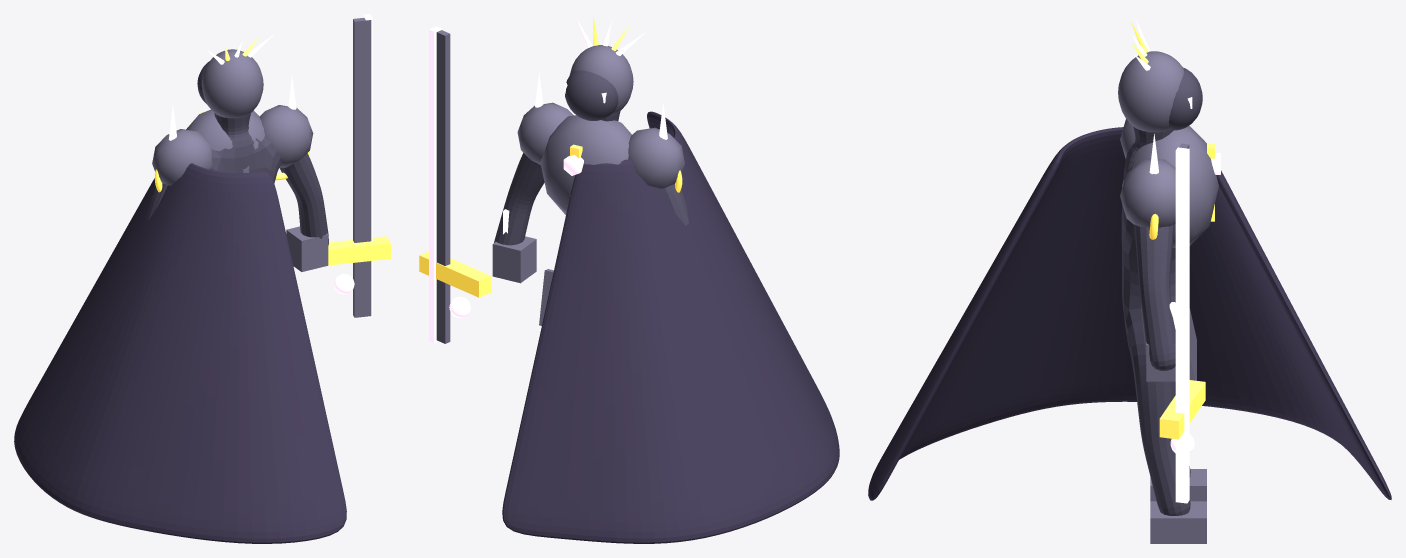
The model's file is kaelis.glb.
3 renders of one model, left to right at view 1: azimuth 30°, elevation 25°; view 2: azimuth 150°, elevation 25°; view 3: azimuth 270°, elevation 25°, orthographic. The views are drawn at different scales.
Visible parts, largest first — view 1: cloak, Cube.015, kaelis_body, Sphere, Icosphere.002, Icosphere.001, Cube.012, Cube.017, Icosphere, Cube.016; view 2: cloak, Cube.015, Icosphere, kaelis_body, Icosphere.001, Cube.016, Sphere.001, Sphere, Icosphere.002, Cube.012, Cube.017; view 3: cloak, kaelis_body, Cube.016, Sphere, Icosphere, Icosphere.002, Cube.013, Sphere.001, Cube.017, Cube.011.
Boxes of the visible parts, x1,y1,x2,y2 form: cloak: (14, 163, 346, 543); Cube.015: (353, 18, 371, 317); kaelis_body: (146, 113, 328, 245); Sphere: (201, 49, 263, 118); Icosphere.002: (259, 105, 313, 167); Icosphere.001: (152, 129, 212, 185); Cube.012: (286, 226, 328, 271); Cube.017: (328, 236, 390, 265); Icosphere: (186, 109, 264, 172); Cube.016: (363, 14, 372, 317); cloak: (502, 111, 839, 543); Cube.015: (436, 30, 450, 343); Icosphere: (540, 115, 631, 214); kaelis_body: (494, 111, 688, 245); Icosphere.001: (628, 127, 684, 188); Cube.016: (429, 26, 441, 342); Sphere.001: (565, 70, 618, 120); Sphere: (569, 45, 633, 115); Icosphere.002: (517, 102, 573, 164); Cube.012: (492, 236, 536, 283); Cube.017: (419, 251, 491, 297); cloak: (868, 127, 1391, 500); kaelis_body: (1121, 126, 1190, 515); Cube.016: (1175, 147, 1189, 503); Sphere: (1118, 51, 1183, 132); Icosphere: (1122, 125, 1218, 247); Icosphere.002: (1120, 159, 1175, 227); Cube.013: (1150, 501, 1206, 543); Sphere.001: (1169, 67, 1202, 130); Cube.017: (1159, 380, 1205, 439); Cube.011: (1150, 469, 1206, 501).
Size of the model in its own units: 2.4 by 2.67 by 2.59.
